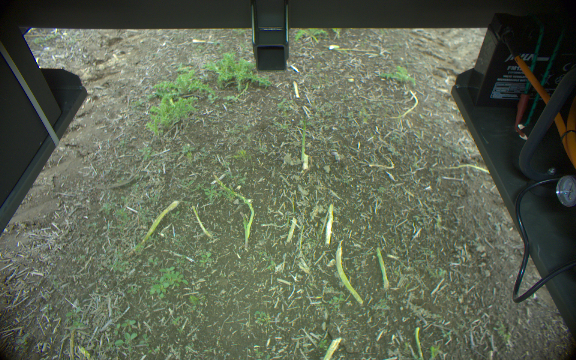aspa: (210, 174, 253, 250), (134, 198, 180, 250), (333, 245, 362, 304), (374, 246, 392, 292), (189, 204, 212, 239), (298, 116, 312, 166), (412, 322, 427, 360), (324, 202, 334, 246), (322, 338, 340, 360), (285, 215, 298, 244)
